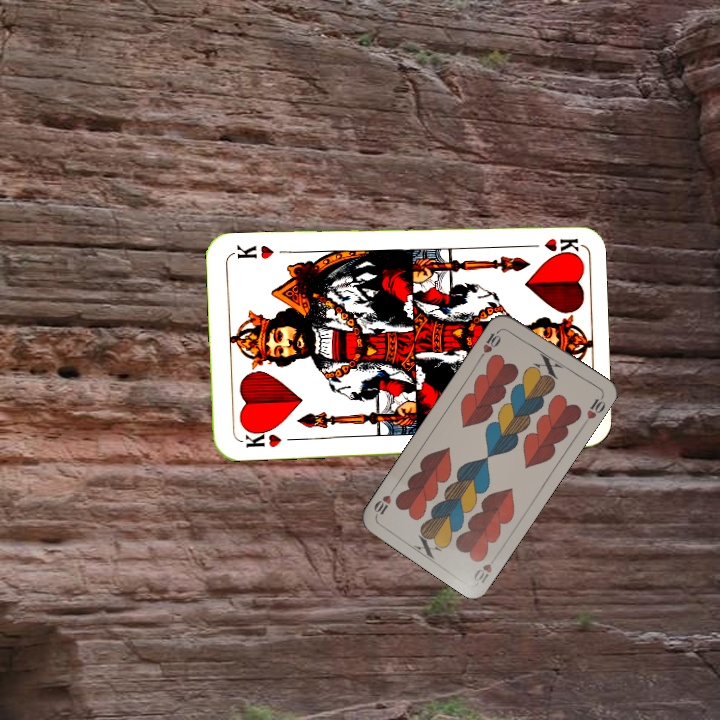H10: (470, 550, 501, 586), (476, 325, 504, 361)
HK: (520, 234, 580, 255), (237, 424, 284, 450)
